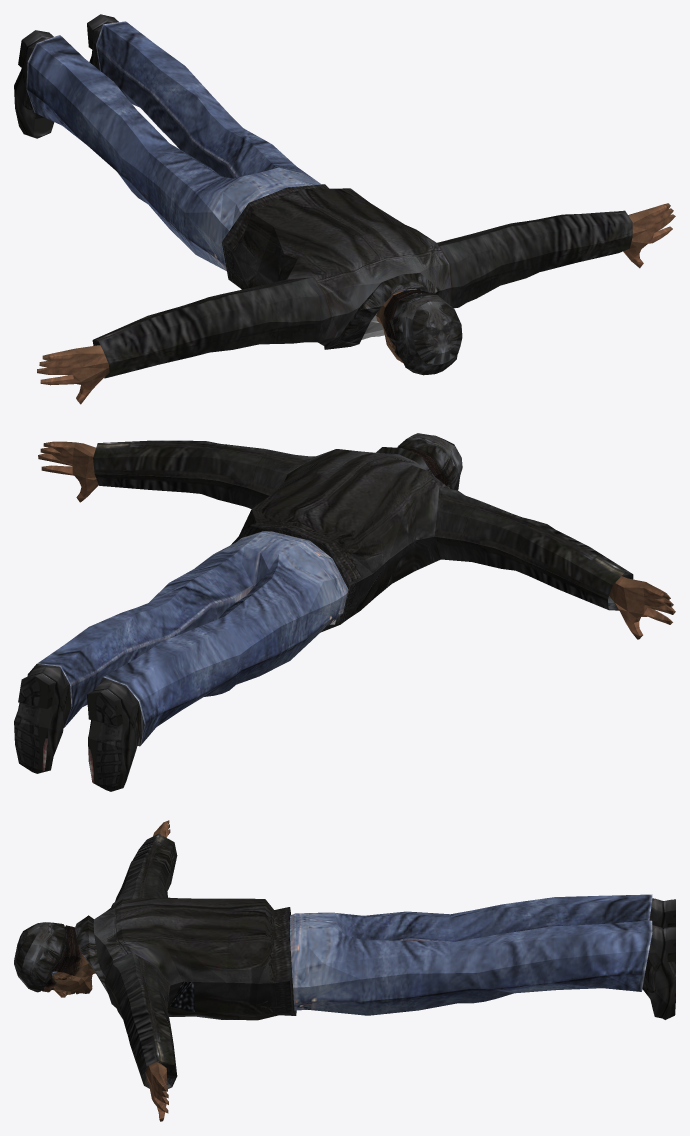
The model's file is thug_AJ_wtf.obj.
3 renders of one model, top to bottom at view 1: azimuth 30°, elevation 25°; view 2: azimuth 150°, elevation 25°; view 3: azimuth 270°, elevation 25°, orthographic. The views are drawn at different scales.
Parts seen in each view (by area): view 1: group1, group2; view 2: group1; view 3: group1, group2.
Boxes of the visible parts, x1=… form: group1: x1=14, y1=14, x2=675, y2=404; group2: x1=376, y1=289, x2=428, y2=362; group1: x1=14, y1=433, x2=675, y2=791; group1: x1=14, y1=820, x2=675, y2=1121; group2: x1=43, y1=925, x2=194, y2=1011.
Bounding box in the file's own units: 647 × 114 × 660.
